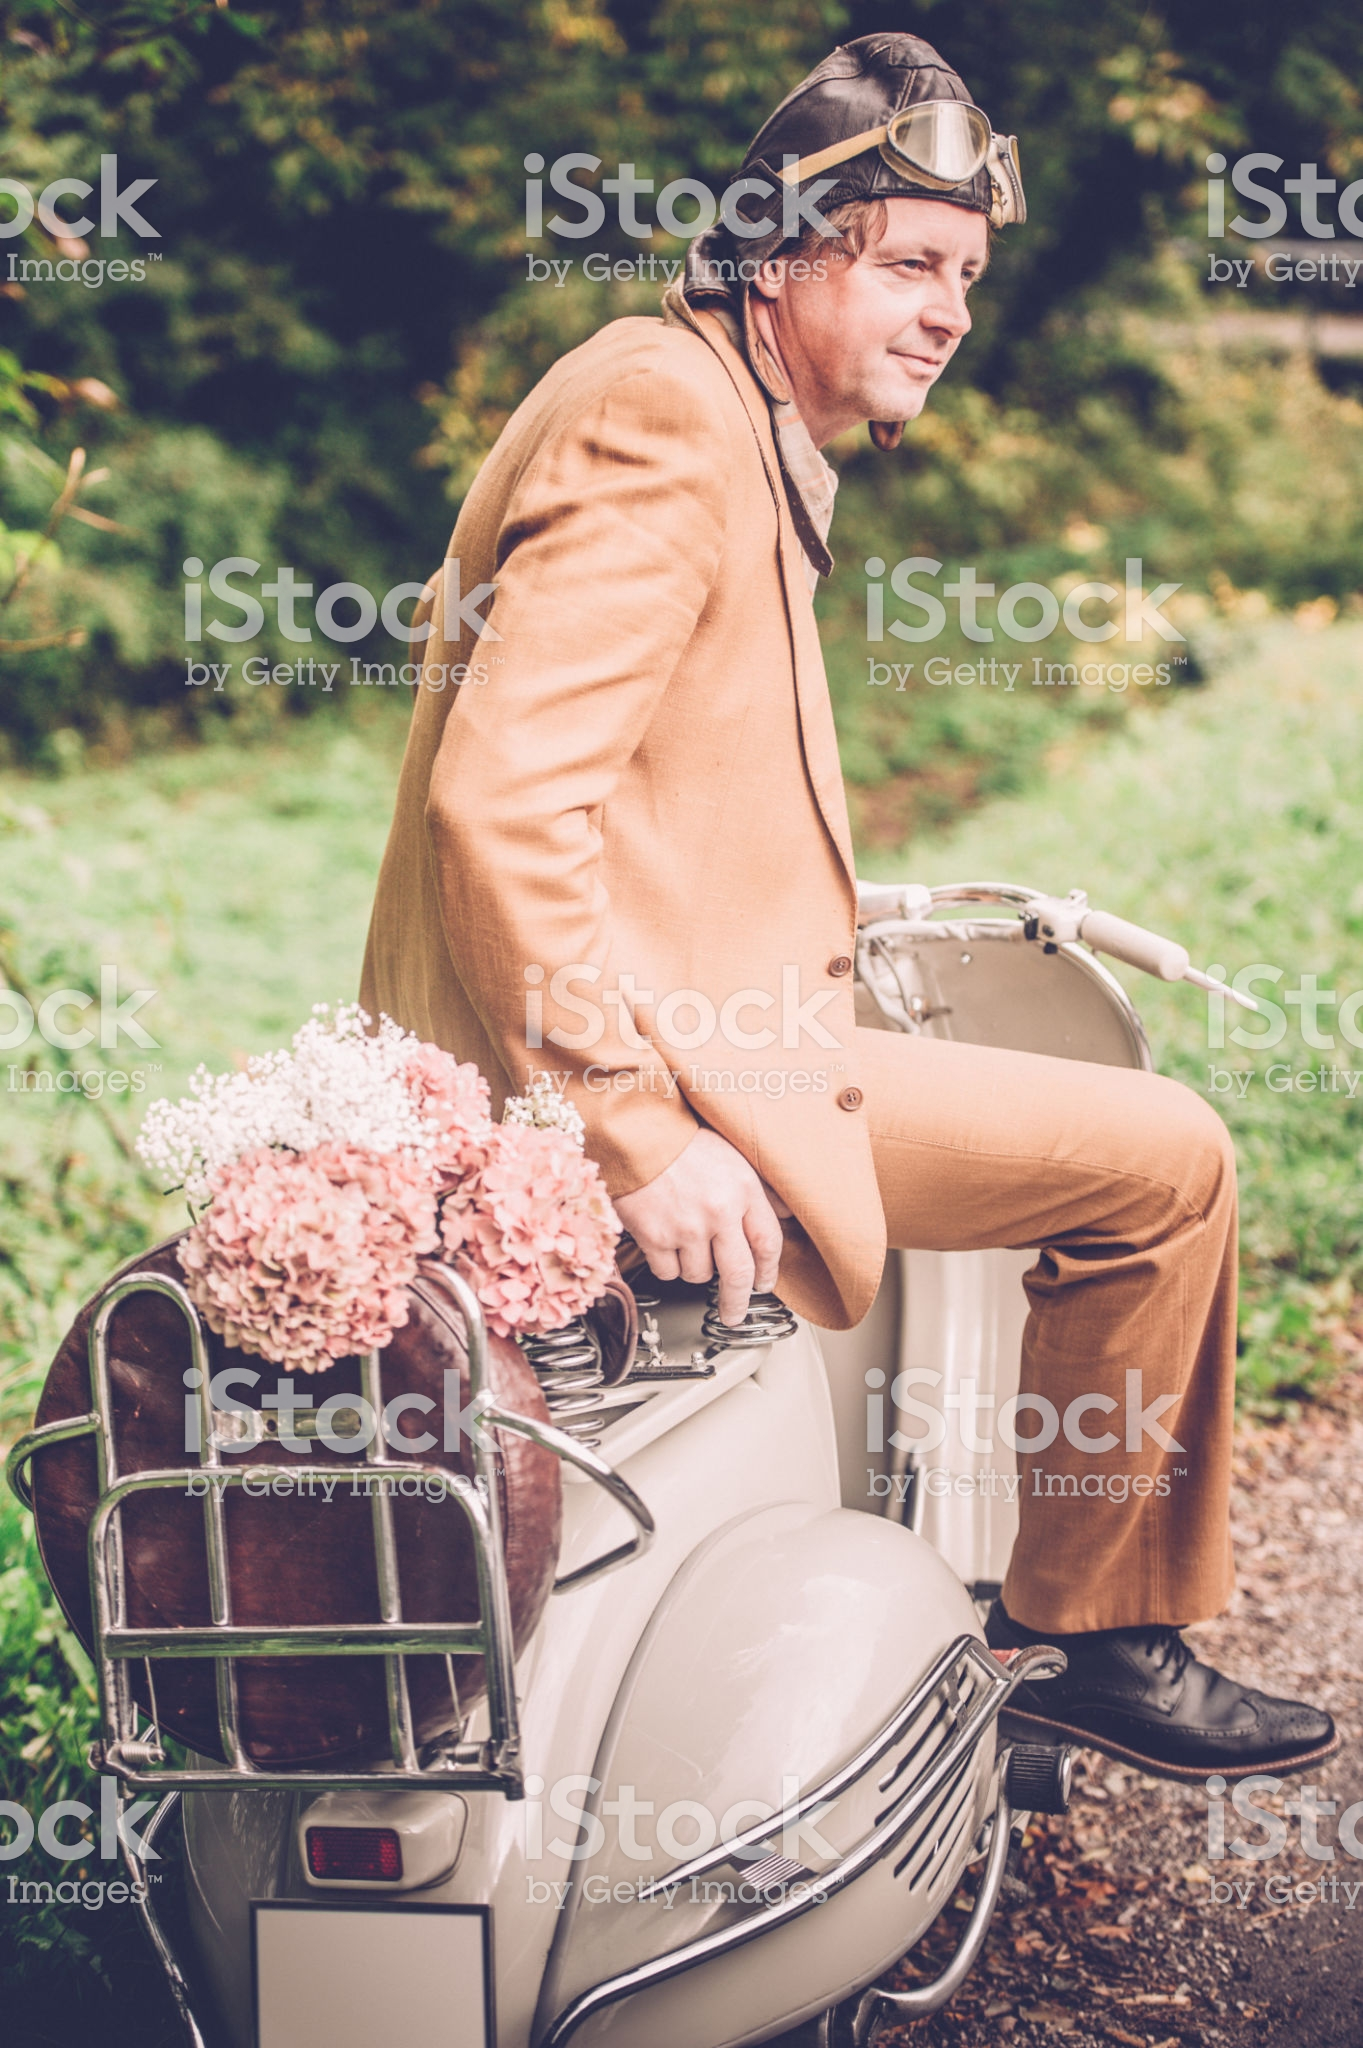helmet: (720, 50, 1034, 266)
